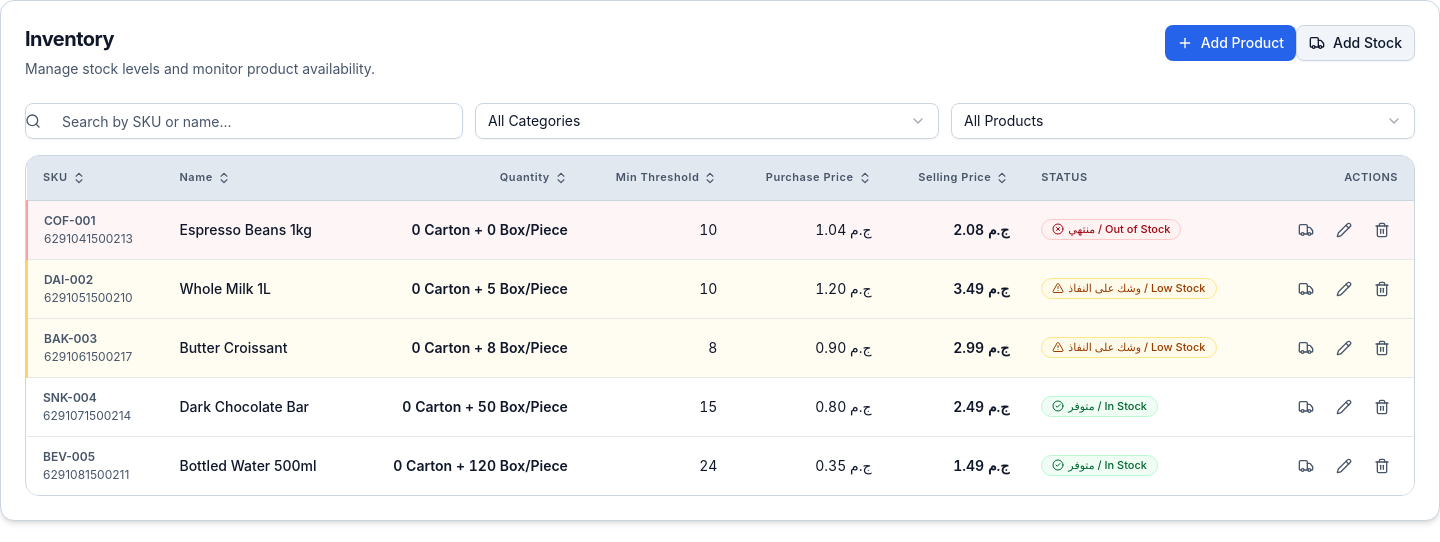
it: InventoryTable › filters to low stock products via the status dropdown
Click the dropdown named "filter by stock". click: (1004, 120)
box: [951,103,1415,139]
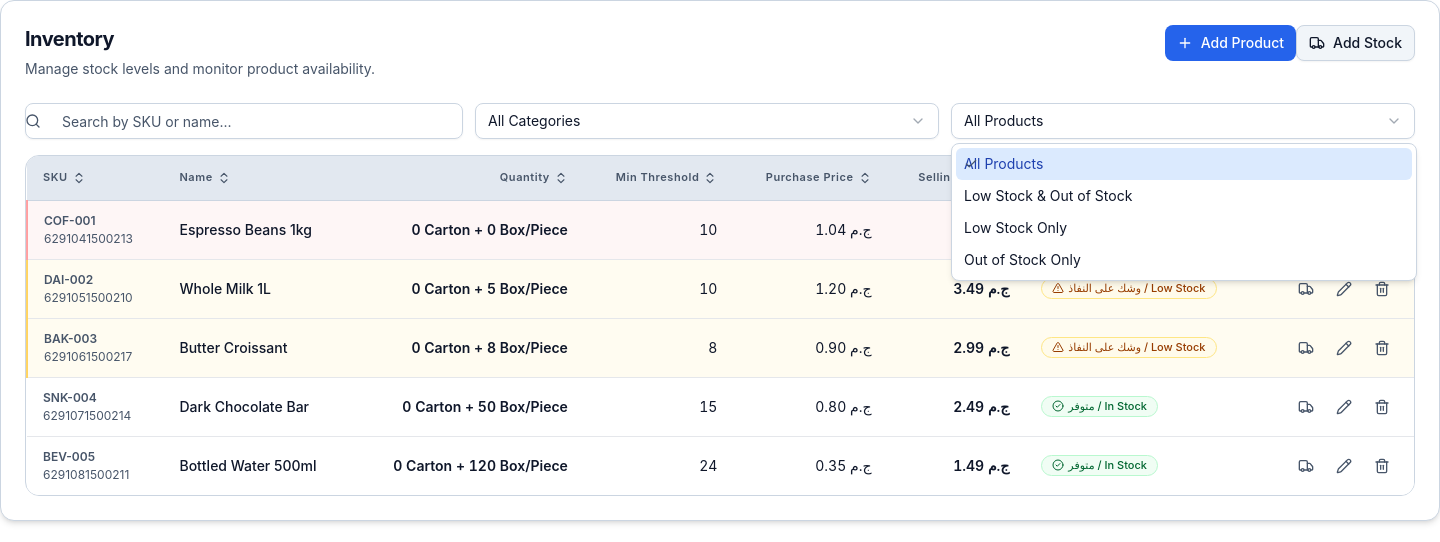
Click the option "Low Stock Only". click: (1016, 228)
box: [964,219,1067,236]
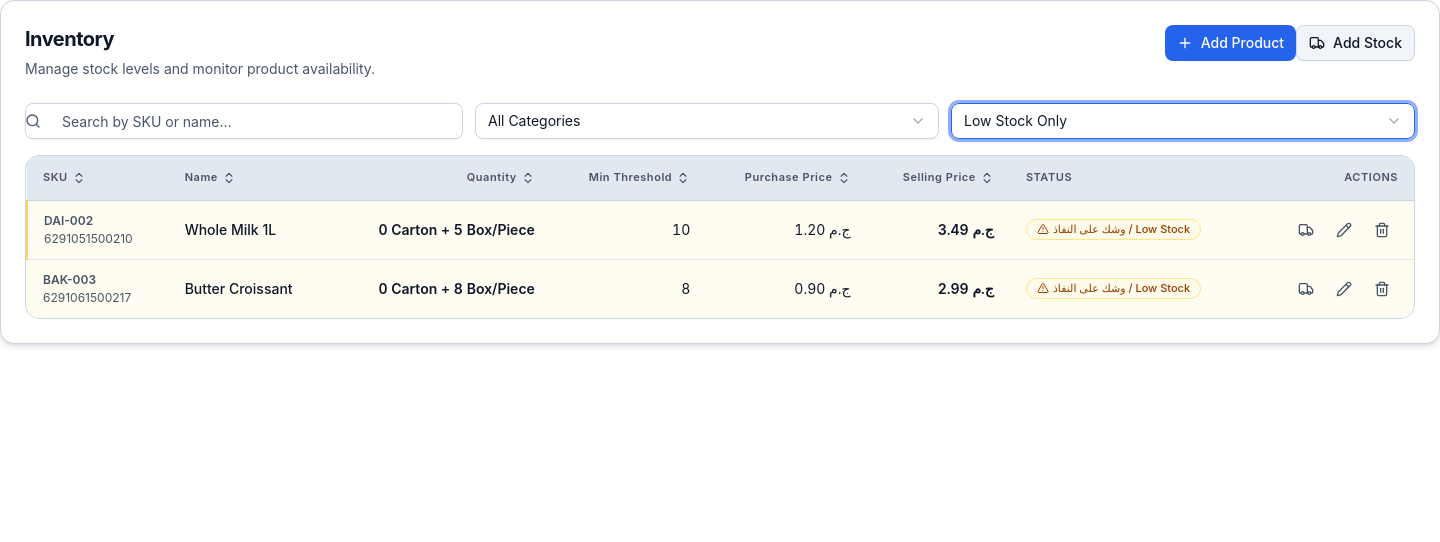
Expected: the text "Whole Milk 1L" is shown, [185,220,276,240]
Expected: the text "Espresso Beans 1kg" is gone
Expected: the text "Dark Chocolate Bar" is gone
